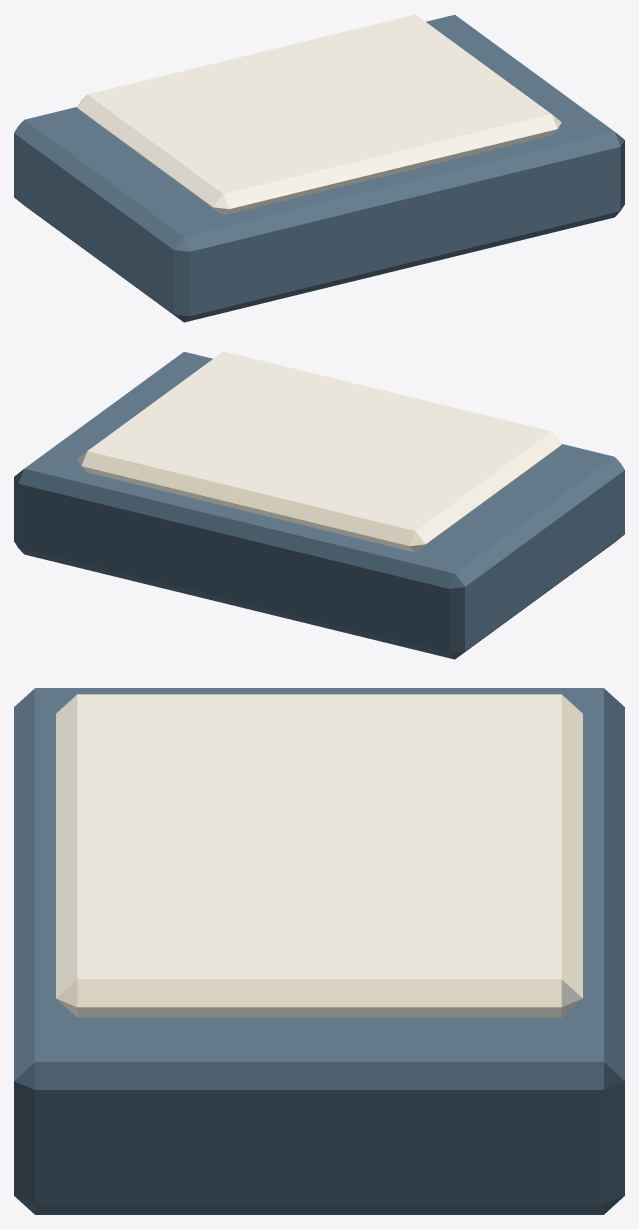
Rendered from Plate_Pressed.gltf.
3 views of the same model, one above another, from view 1: azimuth 30°, elevation 25°; view 2: azimuth 150°, elevation 25°; view 3: azimuth 270°, elevation 25° (orthographic). The views are drawn at different scales.
Parts seen in each view (by area): view 1: Plate_Pressed_baked; view 2: Plate_Pressed_baked; view 3: Plate_Pressed_baked.
Part boxes in pixels (x1,y1,x2,y2): Plate_Pressed_baked: (14, 14, 624, 322); Plate_Pressed_baked: (14, 351, 624, 659); Plate_Pressed_baked: (14, 688, 624, 1214).
Bounding box in the file's own units: 0.88 × 0.2 × 0.58.
